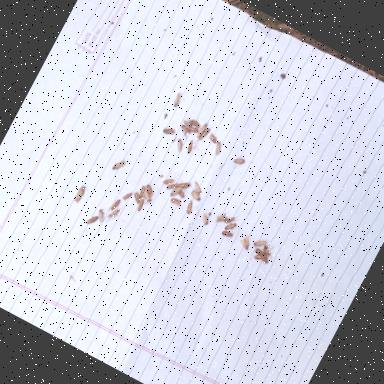pbw: (176, 178, 195, 194), (137, 190, 154, 206), (219, 224, 235, 241), (237, 234, 253, 250), (168, 182, 183, 199), (195, 122, 209, 140), (223, 218, 238, 234), (190, 180, 206, 195), (111, 156, 126, 172), (106, 196, 121, 212), (170, 92, 184, 109), (196, 125, 210, 142), (84, 212, 98, 228), (182, 199, 196, 215), (252, 236, 266, 251), (198, 211, 212, 226), (213, 212, 228, 226), (172, 137, 186, 152), (142, 182, 156, 197), (183, 138, 196, 154), (211, 140, 224, 156), (168, 195, 184, 208), (160, 124, 176, 137), (165, 179, 179, 193), (94, 208, 108, 222), (188, 189, 202, 203), (162, 174, 176, 188), (259, 244, 273, 258), (129, 188, 143, 202), (186, 116, 202, 128), (178, 123, 192, 136), (134, 197, 146, 212), (252, 250, 266, 262), (121, 188, 133, 202), (206, 132, 219, 144), (232, 154, 245, 166), (136, 184, 147, 198), (187, 124, 200, 135), (181, 118, 193, 128), (176, 188, 186, 200), (157, 172, 163, 178)
